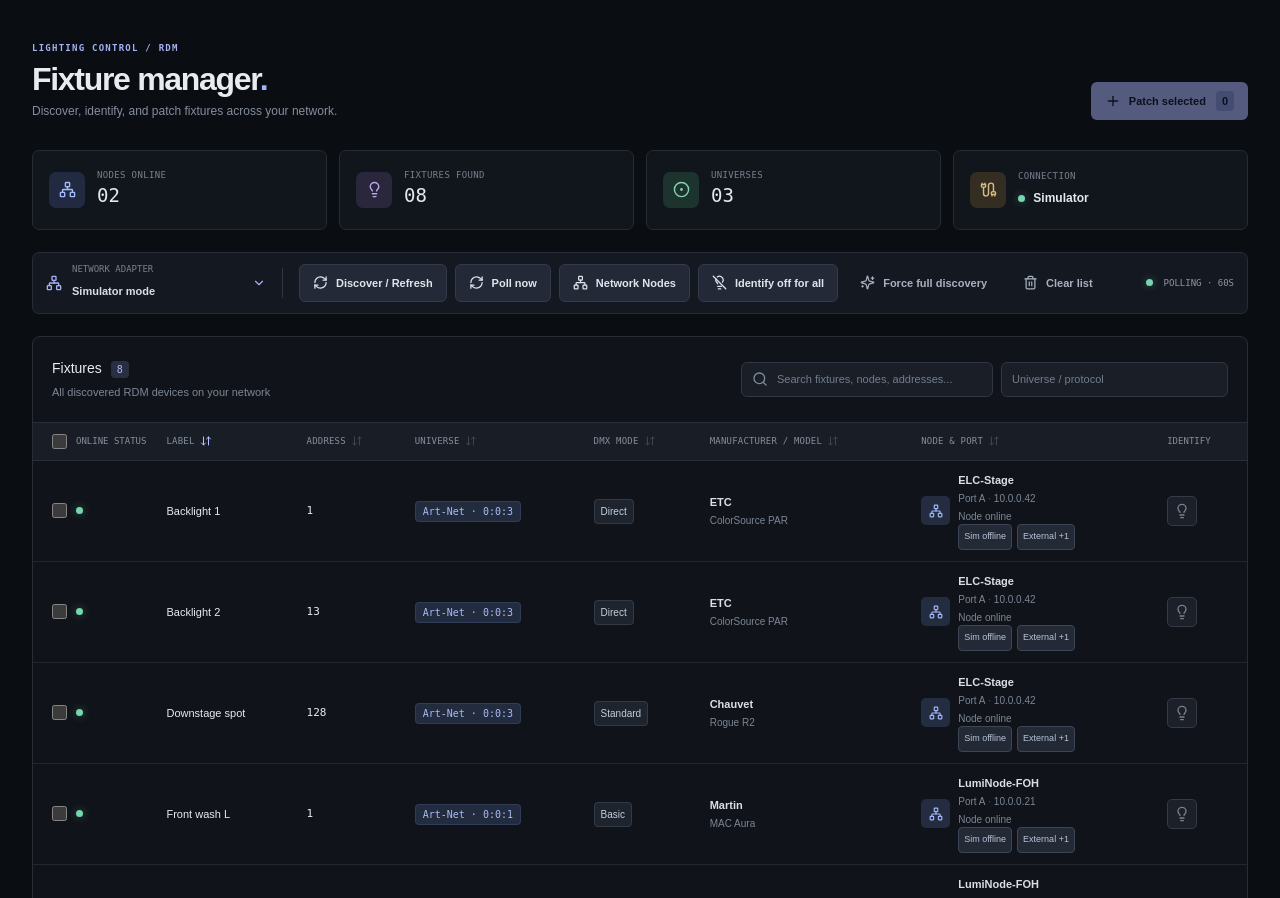
Test: groups bindings and filters fixtures by the physical node
Later steps or results of the test are not shown.
Click the button "Network Nodes" at coordinates (624, 283), box x1=559 y1=264 x2=690 y2=302
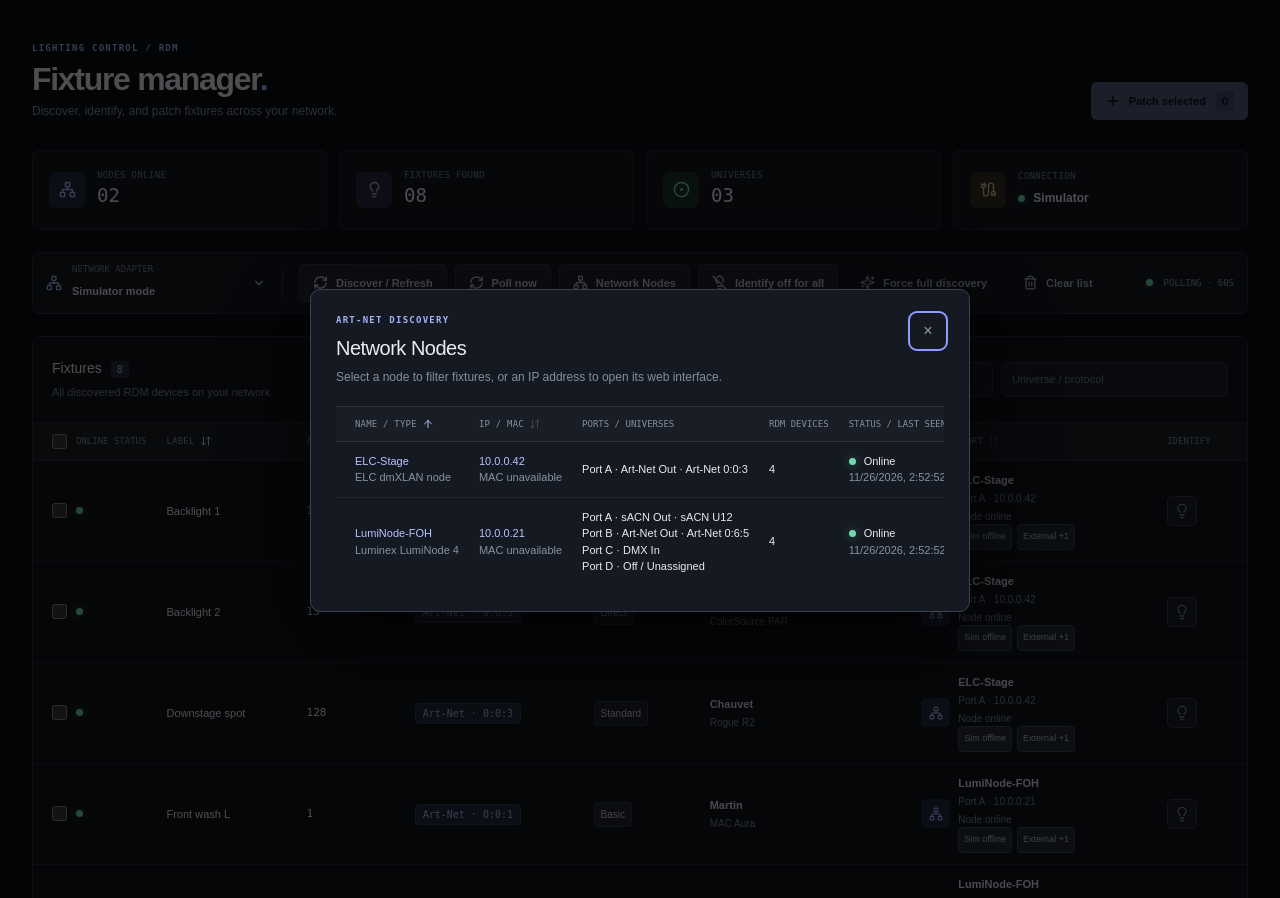
expect the dialog shows "10.0.0.21": met, box x1=479 y1=525 x2=525 y2=542
expect the dialog shows "10.0.0.42": met, box x1=479 y1=452 x2=525 y2=469
expect the dialog shows "MAC unavailable": met, box x1=479 y1=471 x2=562 y2=483
Click the button "LumiNode-FOH" at coordinates (394, 533), box x1=355 y1=525 x2=432 y2=542
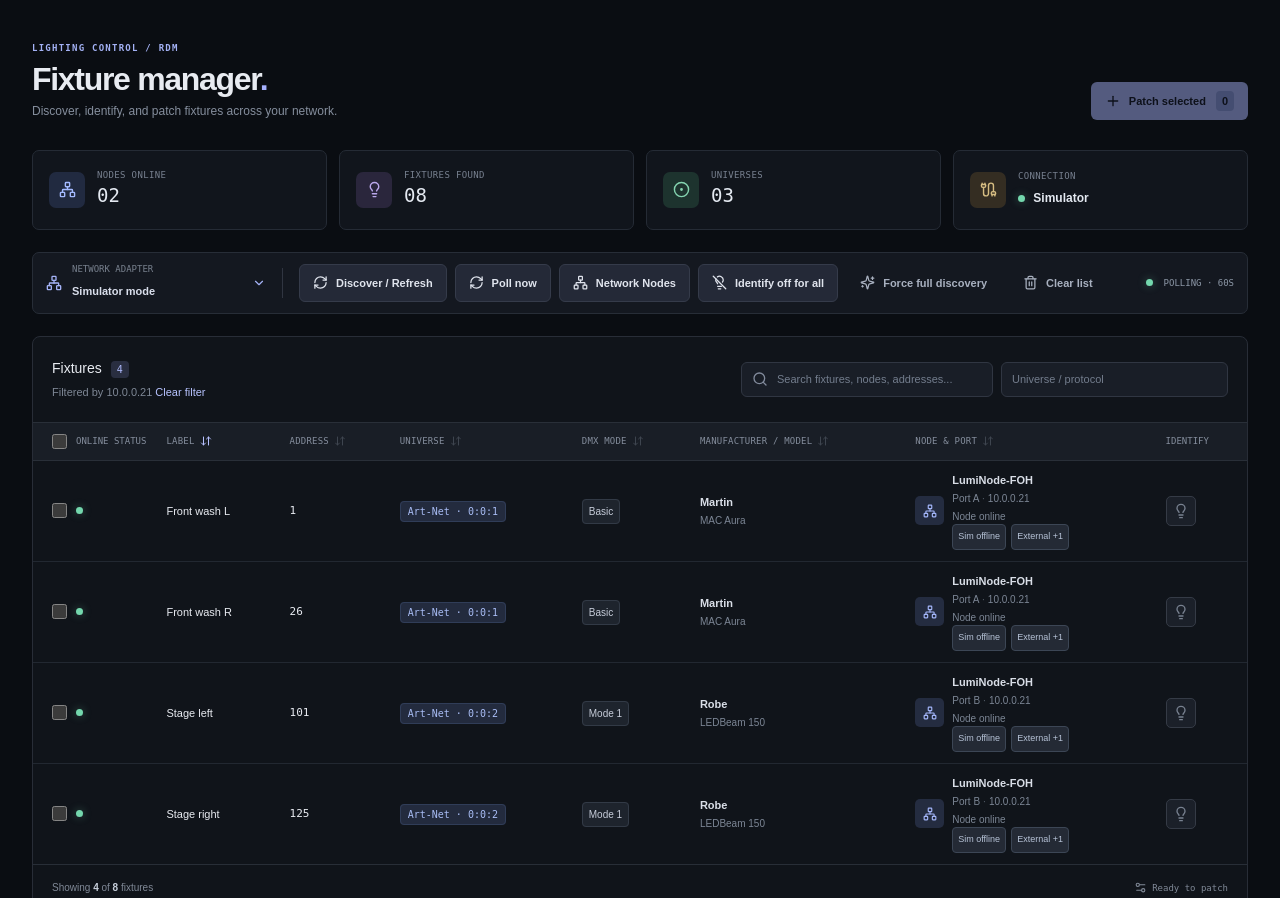
expect the text "Filtered by 10.0.0.21" is shown: met, box x1=52 y1=384 x2=206 y2=400
